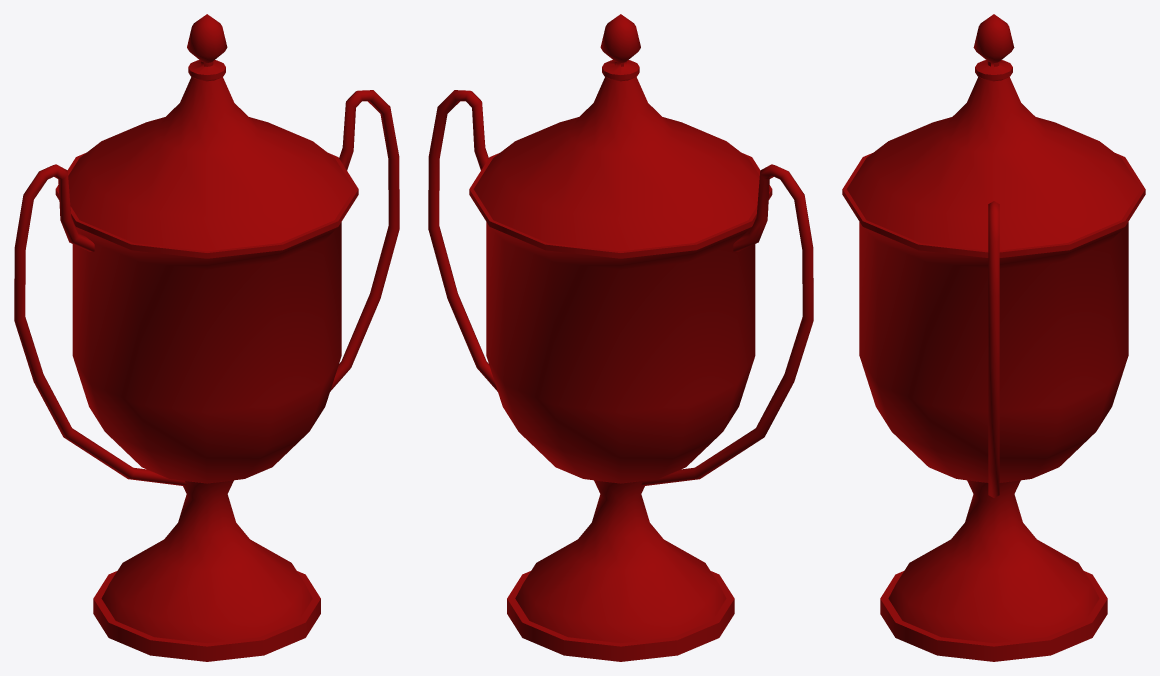
File: copa_Generica_2.FBX
3 renders of one model, left to right at view 1: azimuth 30°, elevation 25°; view 2: azimuth 150°, elevation 25°; view 3: azimuth 270°, elevation 25°, orthographic.
Parts seen in each view (by area): view 1: copa_Generica_2; view 2: copa_Generica_2; view 3: copa_Generica_2.
Boxes of the visible parts, bbox=[...] form: copa_Generica_2: bbox=[14, 14, 399, 661]; copa_Generica_2: bbox=[428, 14, 813, 661]; copa_Generica_2: bbox=[842, 14, 1145, 661].
Size of the model in its own units: 86.98 by 129 by 59.21.
